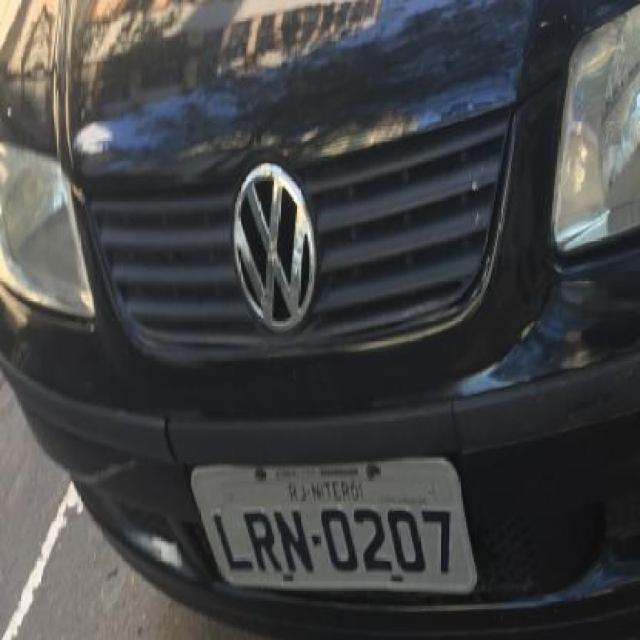old_plate: (186, 450, 487, 600)
